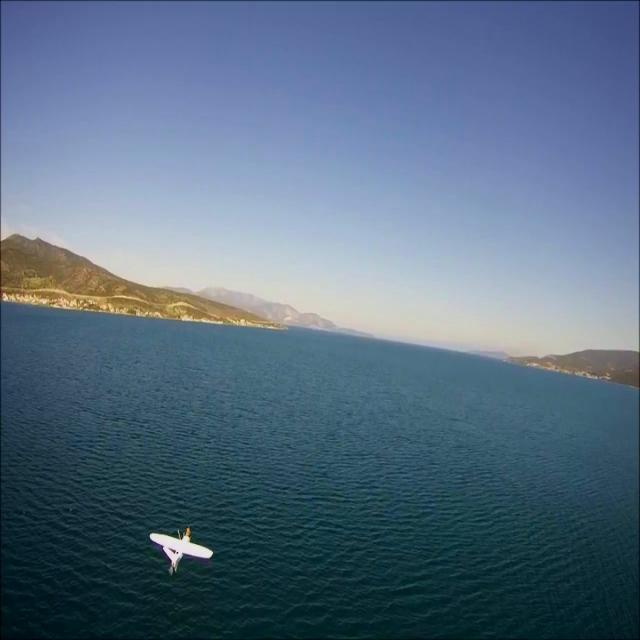iha: (179, 525, 183, 575)
